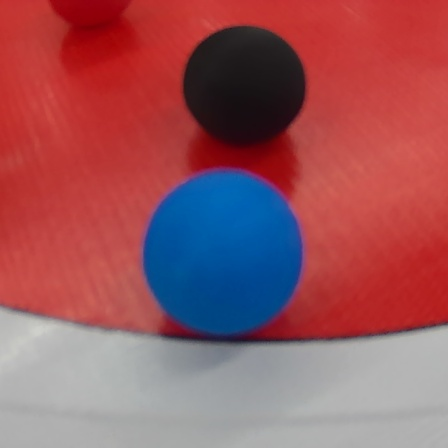black: (180, 19, 311, 142)
blue: (138, 173, 306, 343)
red: (50, 0, 132, 32)
red_base: (0, 0, 446, 351)
